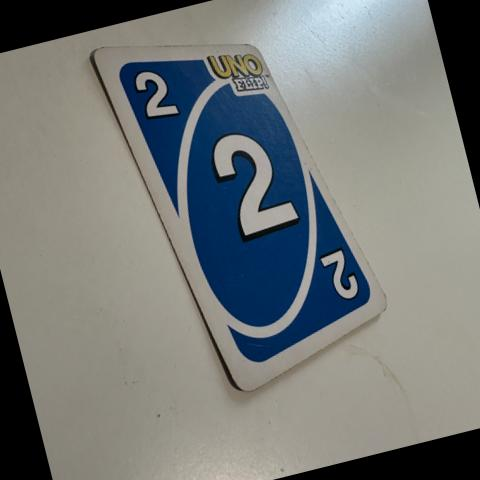lblue-2: (113, 42, 195, 140)
